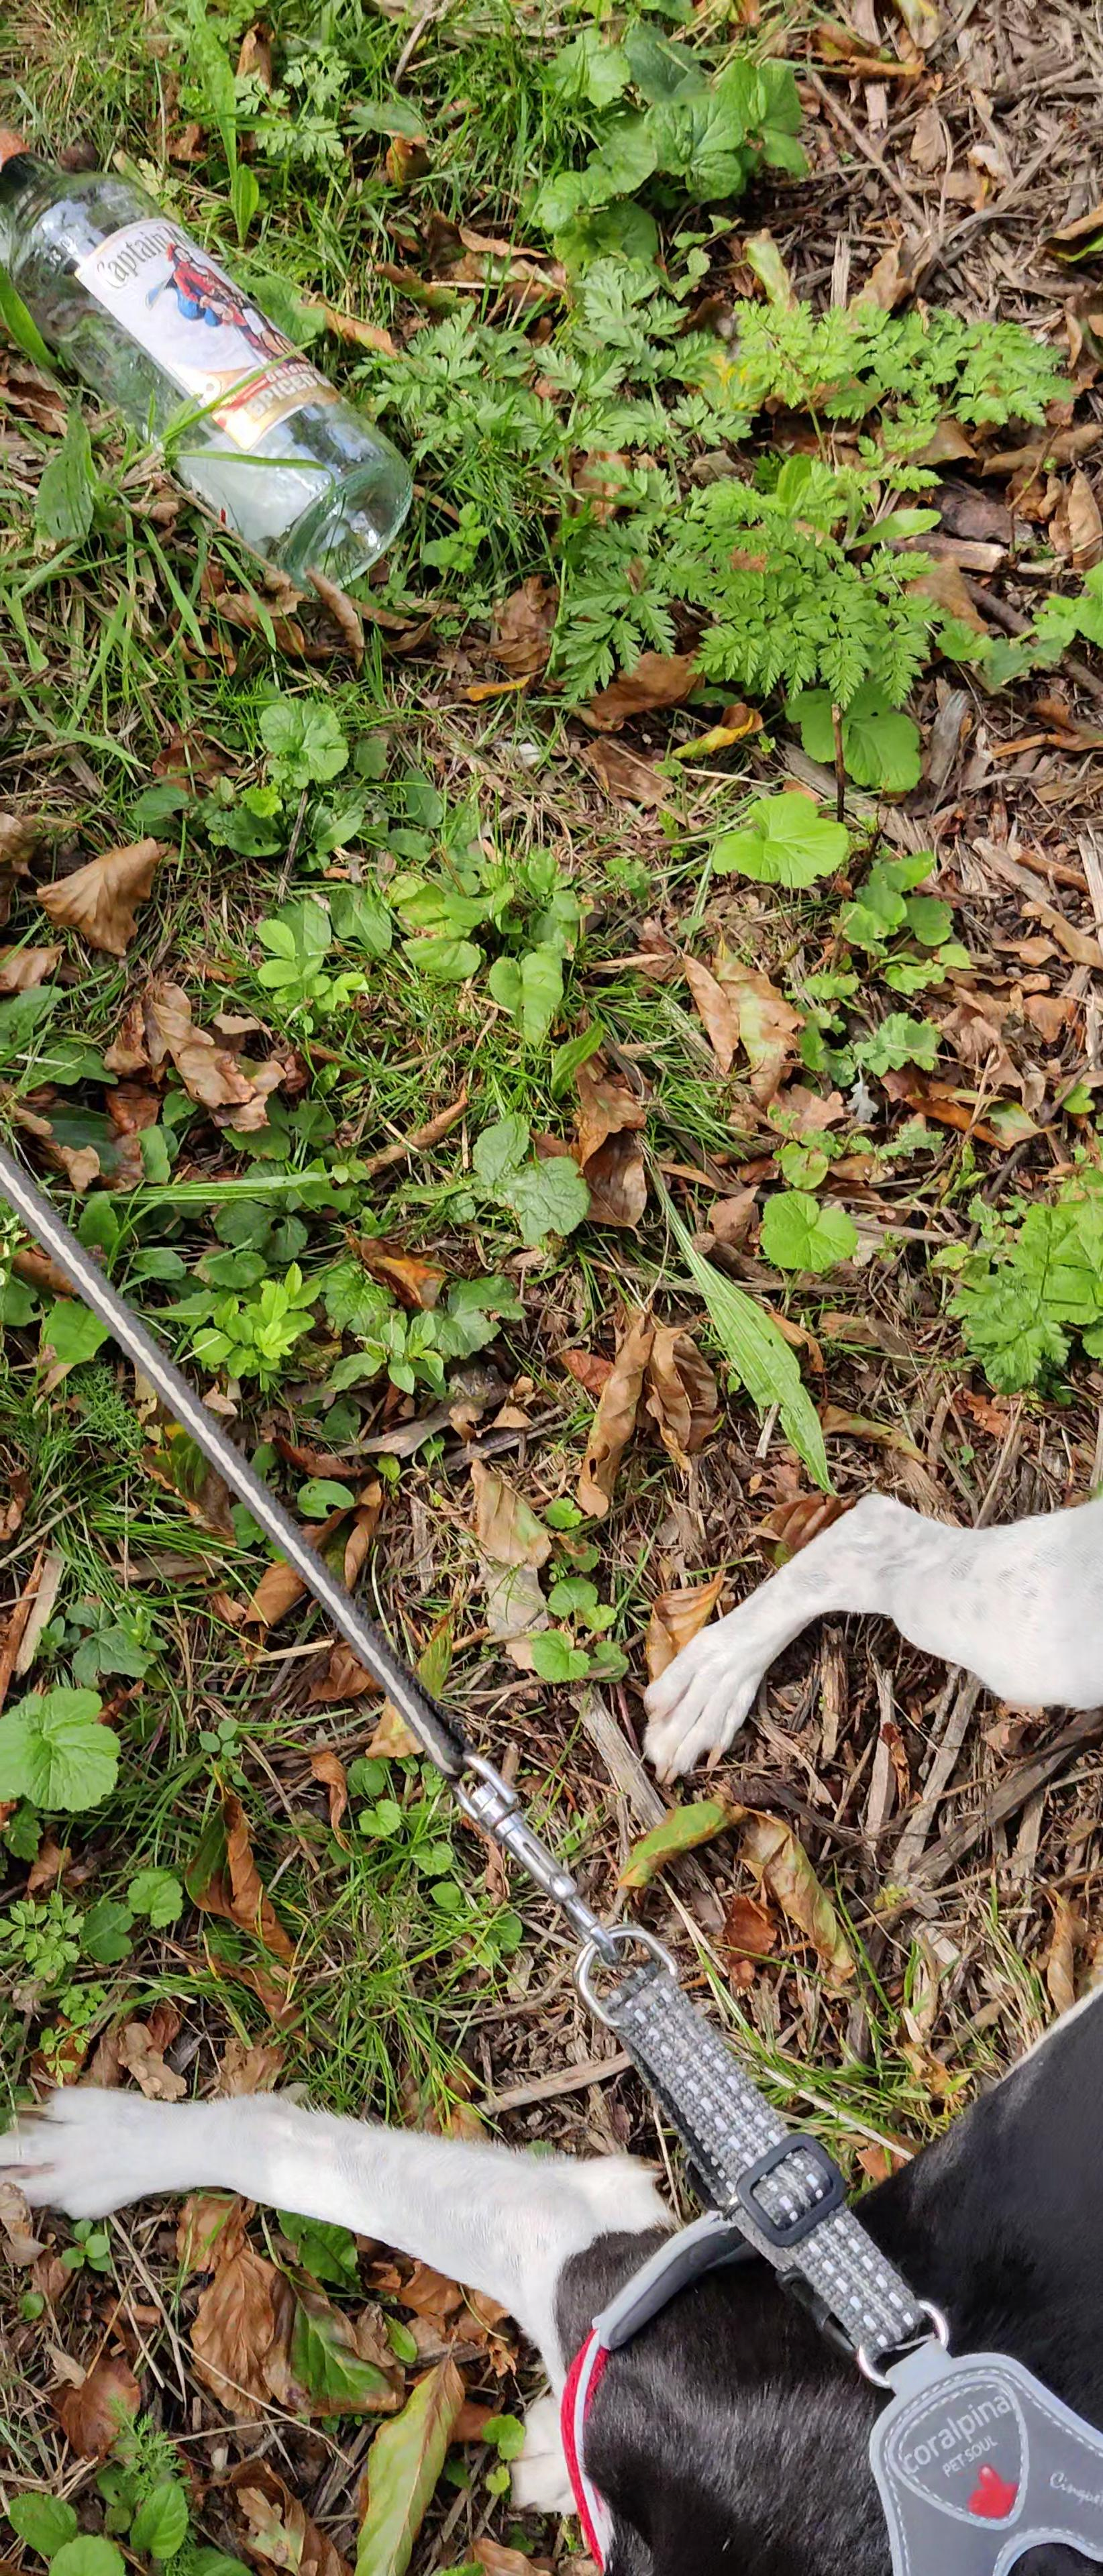Dog: (0, 1456, 1103, 2576)
